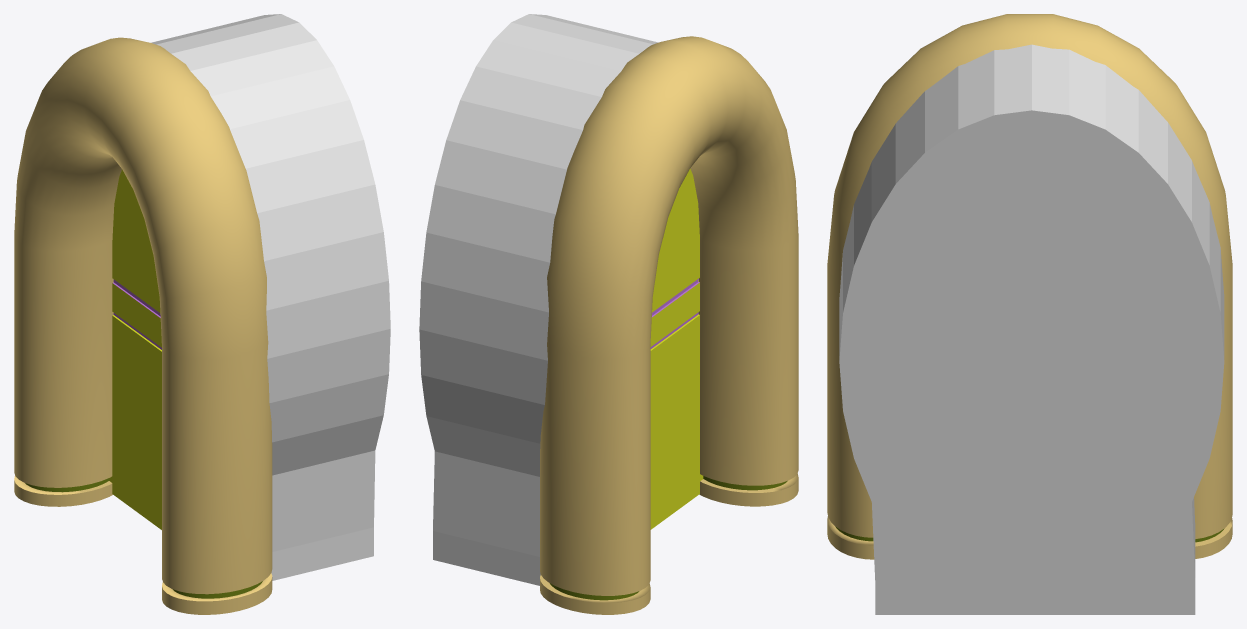
The model's file is door.fbx.
3 views of the same model, side by side, from view 1: azimuth 30°, elevation 25°; view 2: azimuth 150°, elevation 25°; view 3: azimuth 270°, elevation 25° (orthographic). The views are drawn at different scales.
Parts seen in each view (by area): view 1: frame, back, down, up; view 2: frame, back, down, up; view 3: back, frame.
Part boxes in pixels (box(x1,y1,x2,y2)): frame: box(14, 37, 272, 614); back: box(151, 14, 390, 580); down: box(109, 294, 161, 529); up: box(112, 169, 161, 329); frame: box(540, 36, 798, 614); back: box(419, 14, 658, 585); down: box(650, 294, 703, 529); up: box(651, 169, 699, 329); back: box(839, 44, 1224, 614); frame: box(827, 14, 1232, 559).
Size of the model in its own units: 332 by 747 by 533.
